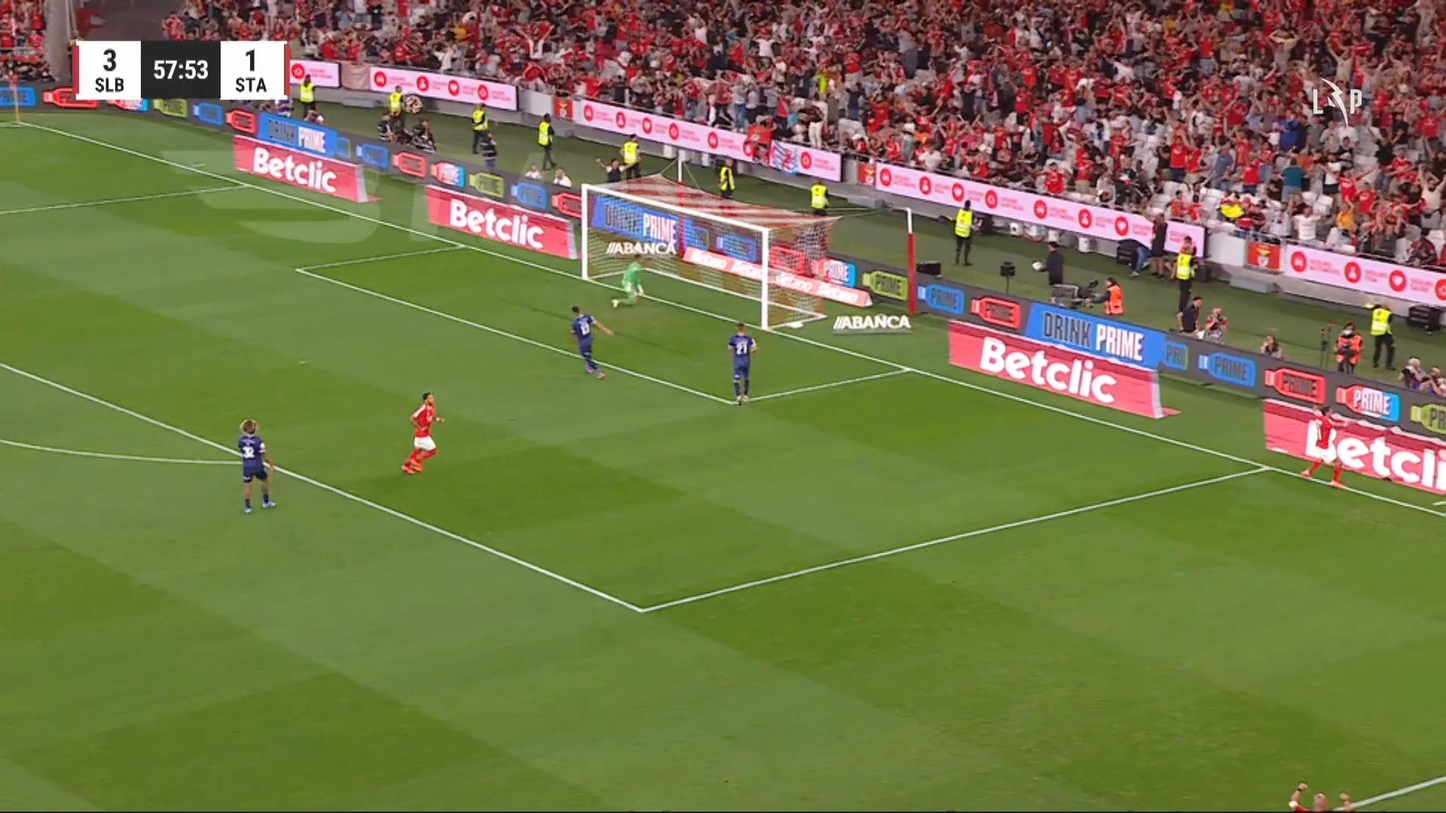ball: (610, 298, 618, 308)
goalkeeper: (610, 252, 646, 308)
player: (1300, 403, 1349, 488), (236, 417, 277, 514), (400, 391, 444, 474), (569, 304, 614, 379), (726, 322, 758, 405)
